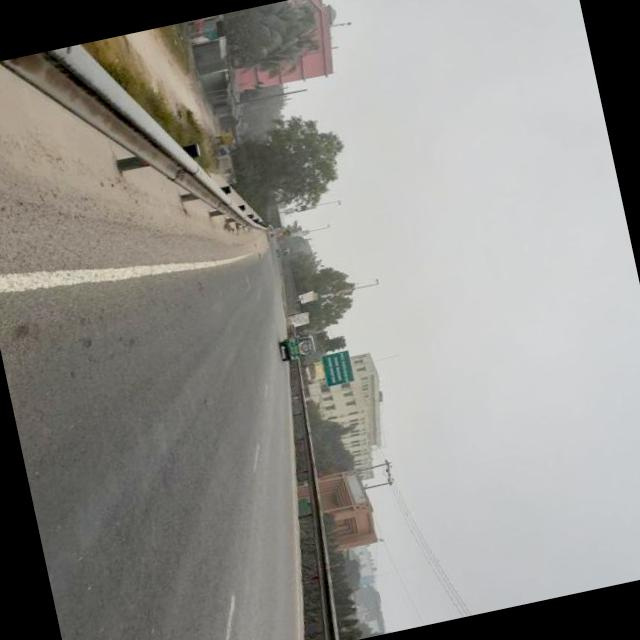motorcycle: (279, 332, 319, 362), (277, 247, 293, 260)
